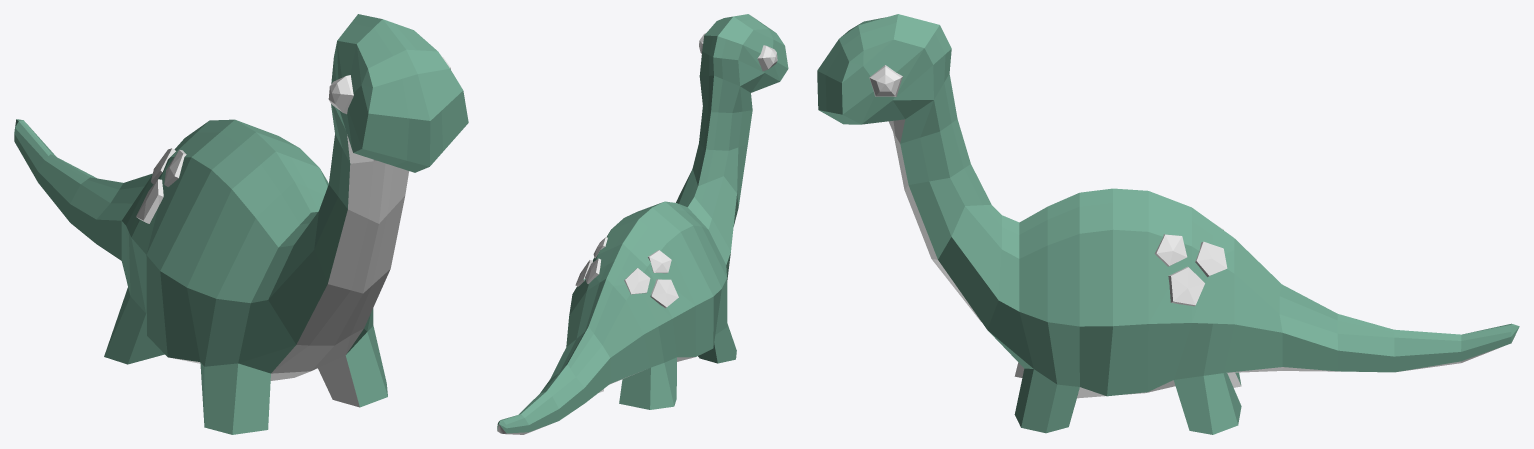
File: dino.fbx
The picture shows the model from 3 angles, left to right: view 1: azimuth 30°, elevation 25°; view 2: azimuth 150°, elevation 25°; view 3: azimuth 270°, elevation 25°; orthographic projection. The views are drawn at different scales.
Visible parts, largest first — view 1: Cube; view 2: Cube; view 3: Cube.
Part boxes in pixels (x1=…): Cube: x1=14, y1=14, x2=468, y2=434; Cube: x1=497, y1=14, x2=788, y2=434; Cube: x1=817, y1=14, x2=1519, y2=434.
Bounding box in the file's own units: 1.45 × 3.27 × 5.44.
